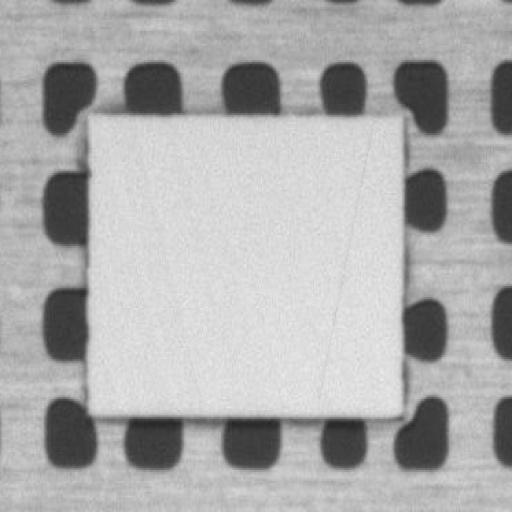DIE_CRACK: (421, 89, 494, 298)
